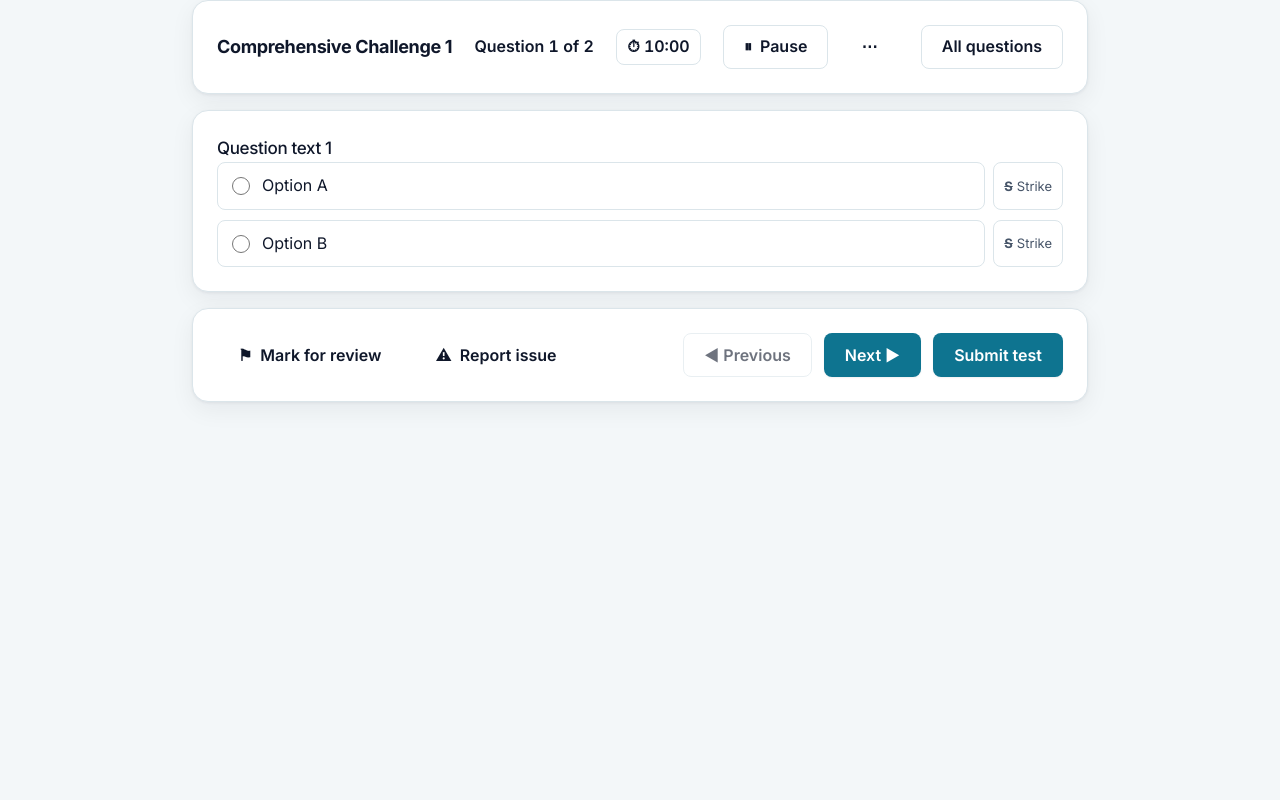
it: AttemptPlayer timers and pause › pauses for a break behind an overlay that hides the question, then resumes
Expected: the heading "Question text 1" is shown, [217,138,332,158]
Click the button "⏸ Pause" at (776, 47), box [723,25,828,69]
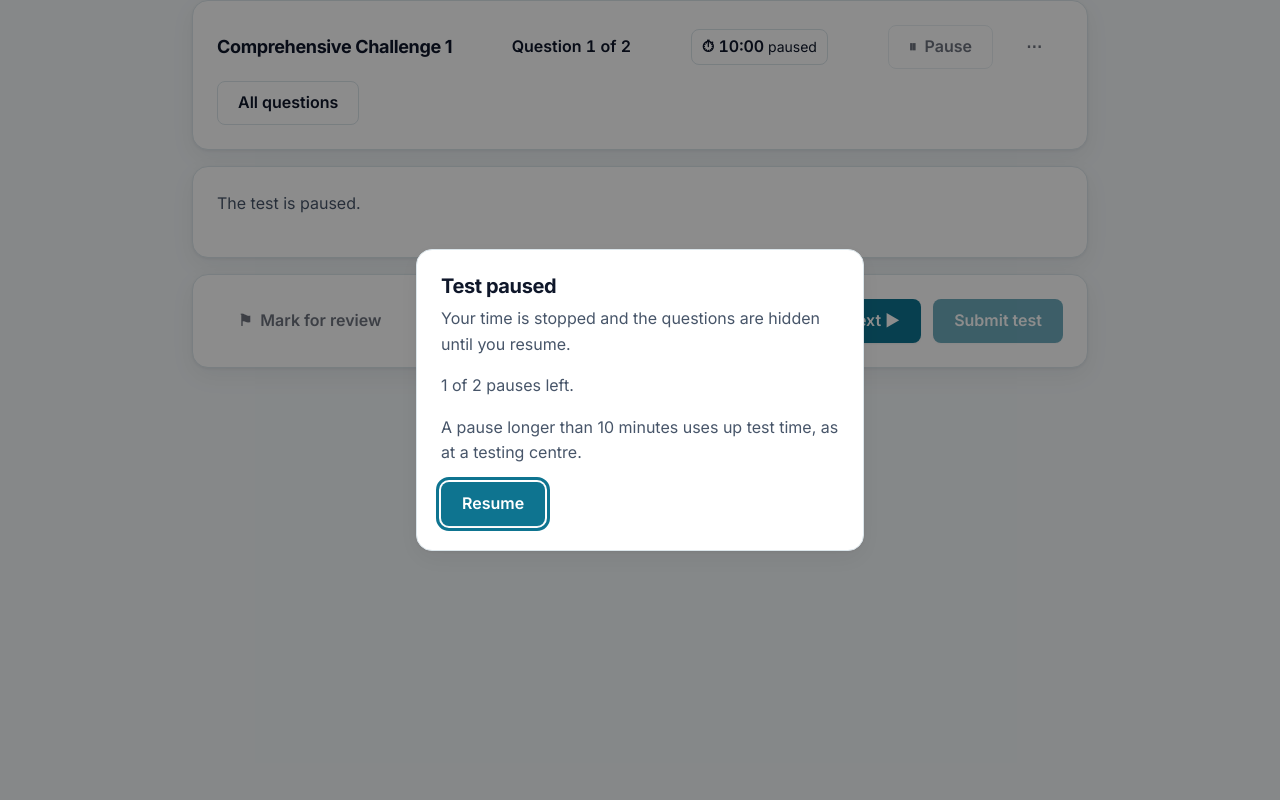
Expected: the element "⏱ 10:00 paused" is shown, [691,29,828,65]
Result: the heading "Question text 1" is gone
Click the button "Resume" at (493, 504), box [441,482,545,526]
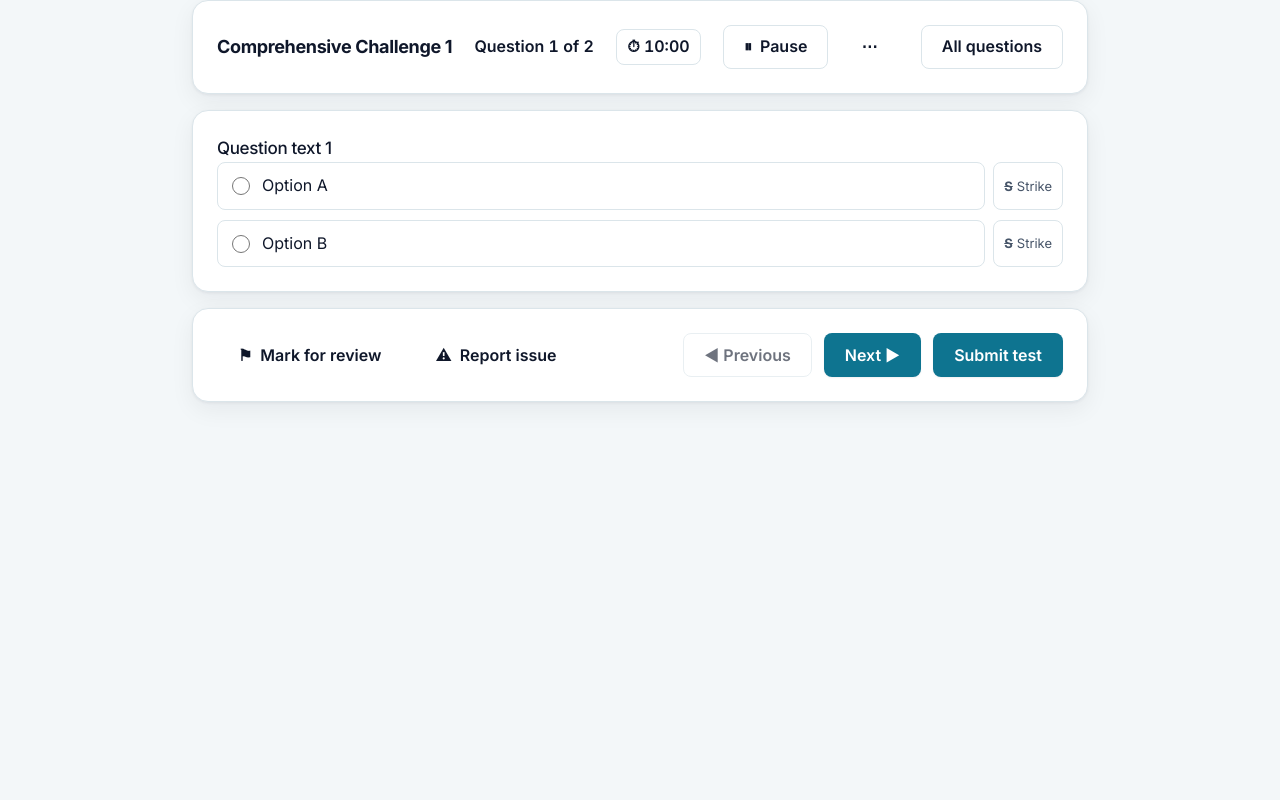
Result: the heading "Question text 1" is shown at [217,138,332,158]
Result: the heading "Test paused" is gone
